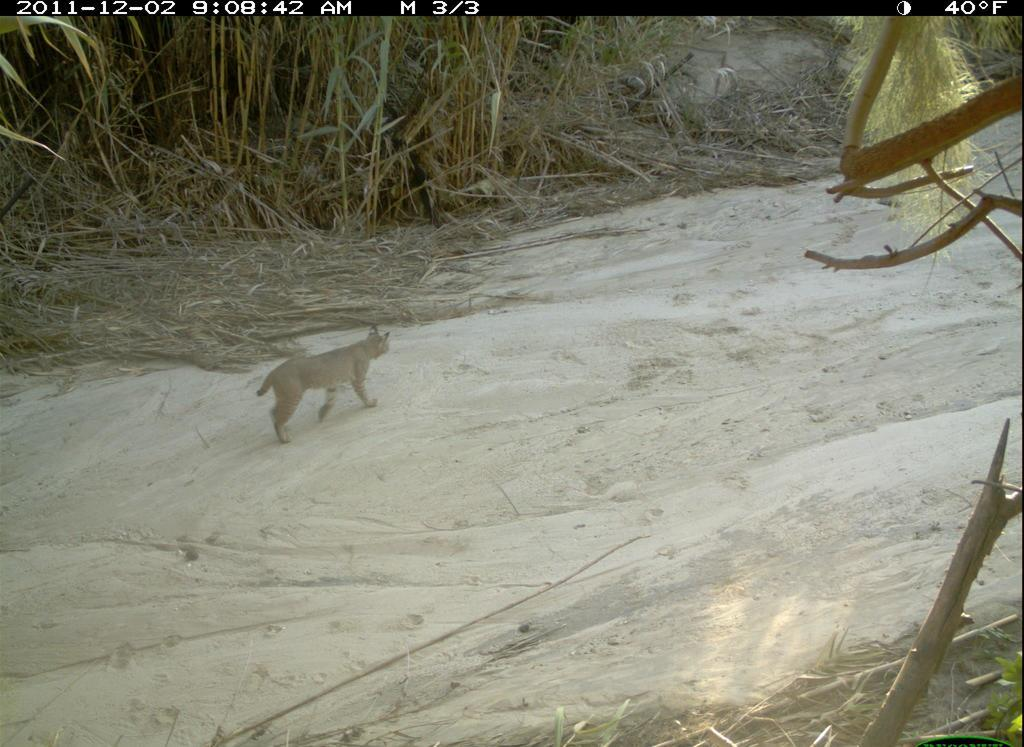bobcat: (251, 319, 397, 455)
